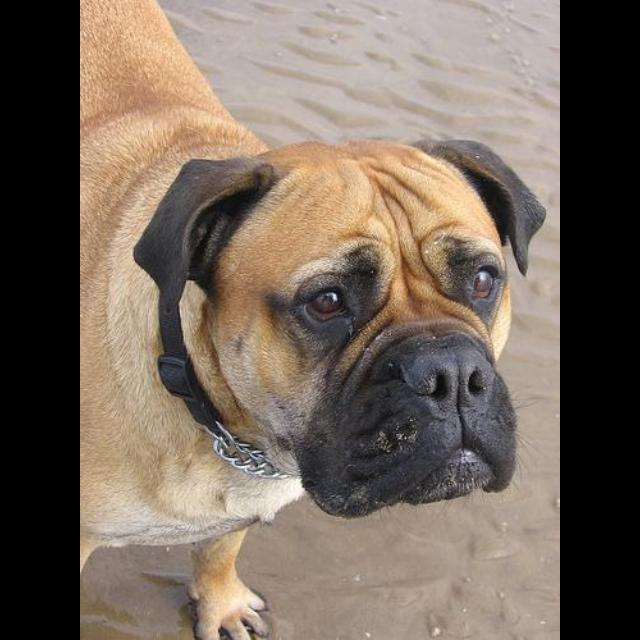bullmastiff: (82, 1, 547, 639)
